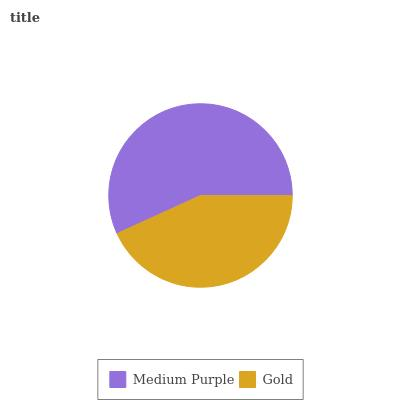legend: (97, 359, 304, 399)
sector: (108, 102, 294, 234), (112, 195, 293, 288)
